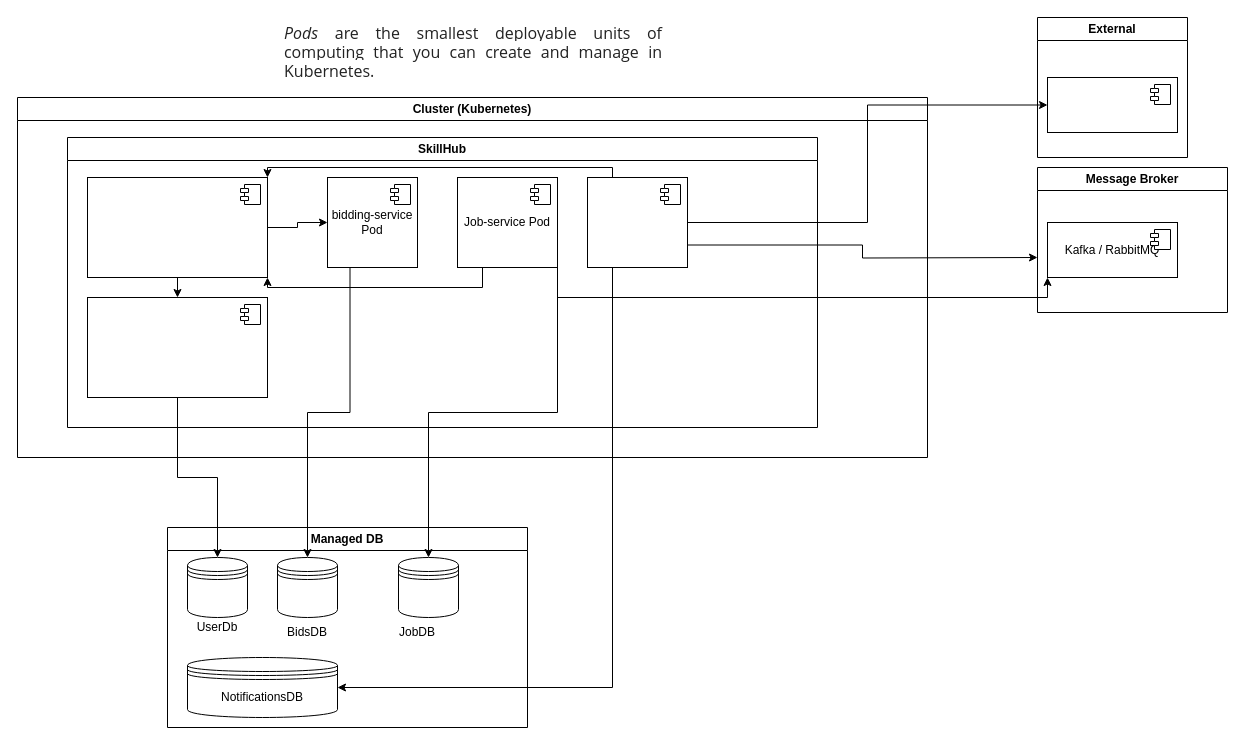
Image size: 1245x745. Some labels were removed from this diagram. The centre of each missing label's shape, as x and y in pixels:
api-gateway Pod: the point at 177,227
EMAIL Provider: the point at 1112,104
notification-service Pod: the point at 637,222
user-service Pod: the point at 177,347
